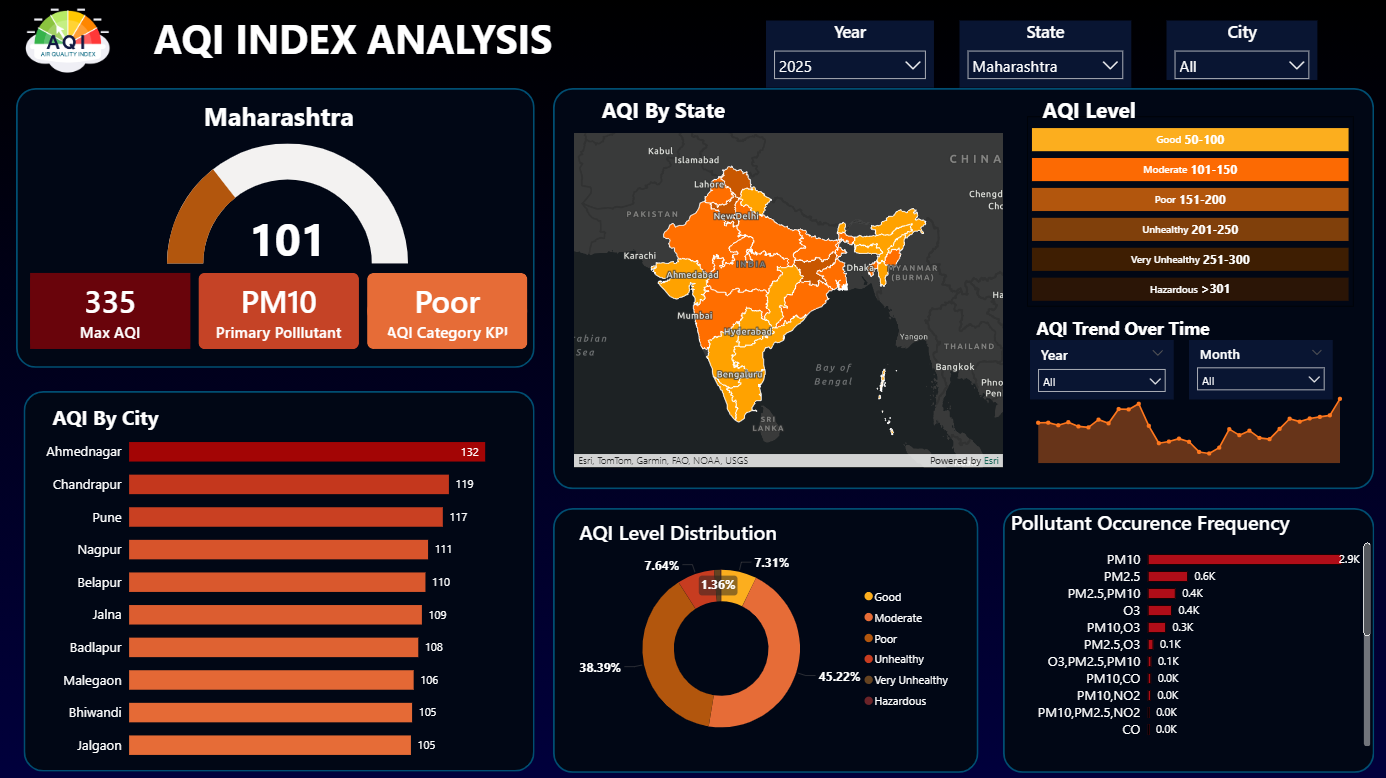

This screenshot's page, from the dashboard's own definition file:
{"tool":"powerbi","page":{"name":"Page 1","canvas":[1700,1000],"ordinal":0},"visuals":[{"type":"textbox","box":[122,29.4,623.5,88.1],"z":0},{"type":"slicer","title":"Year","fields":{"Values":["Calender Table.Year"]},"box":[933,45.2,203.3,81.3],"z":1000},{"type":"slicer","title":"State","fields":{"Values":["day_wise_aqi_data.state"]},"box":[1167.9,45.2,207.8,81.3],"z":2000},{"type":"slicer","title":"City","fields":{"Values":["day_wise_aqi_data.area"]},"box":[1418.7,45.2,183,72.3],"z":3000},{"type":"shape","box":[24.8,126.5,628,338.9],"z":4000},{"type":"gauge","fields":{"Y":["day_wise_aqi_data.Avg AQI"]},"box":[45.2,189.8,616.7,155.9],"z":5000},{"type":"cardVisual","fields":{"Data":["Max(day_wise_aqi_data.aqi_value)","day_wise_aqi_data.Primary Polllutant","day_wise_aqi_data.AQI Category KPI"]},"box":[33.9,345.6,619,106.2],"z":6000},{"type":"shape","box":[675.5,126.5,994,485.7],"z":7000},{"type":"card","fields":{"Values":["day_wise_aqi_data.KPI Title"]},"box":[176.2,131,334.3,61],"z":8000},{"type":"card","fields":{"Values":["day_wise_aqi_data.State Map Title"]},"box":[675.5,126.5,266.6,54.2],"z":9000},{"type":"esriVisual","fields":{"Location":["day_wise_aqi_data.state"],"Color":["day_wise_aqi_data.Avg AQI"]},"box":[700.3,180.7,519.6,404.4],"z":10000},{"type":"barChart","fields":{"Category":["day_wise_aqi_data.AQI Category"],"Y":["day_wise_aqi_data.Label"]},"box":[1248.9,161.1,395.4,230.1],"z":11000},{"type":"card","fields":{"Values":["day_wise_aqi_data.AQI Level Title"]},"box":[1219.9,126.5,207.8,54.2],"z":12000},{"type":"areaChart","fields":{"Category":["Calender Table.Date.Variation.Date Hierarchy.Day"],"Y":["day_wise_aqi_data.Avg AQI"]},"box":[1247,467.6,395.3,117.5],"z":13000},{"type":"slicer","fields":{"Values":["Calender Table.Date.Variation.Date Hierarchy.Year"]},"box":[1253.8,431.5,173.9,72.3],"z":14000},{"type":"slicer","fields":{"Values":["Calender Table.Date.Variation.Date Hierarchy.Month"]},"box":[1445.8,431.5,173.9,72.3],"z":15000},{"type":"card","fields":{"Values":["day_wise_aqi_data.aqi month and year"]},"box":[1190.5,399.9,347.9,38.4],"z":16000},{"type":"shape","box":[33.9,494.7,619,460.9],"z":16001},{"type":"barChart","fields":{"Category":["day_wise_aqi_data.area"],"Y":["day_wise_aqi_data.Avg AQI"]},"box":[49.7,526.4,578.3,429.2],"z":16002},{"type":"card","fields":{"Values":["day_wise_aqi_data.AQI City"]},"box":[0,499.3,266.6,54.2],"z":16003},{"type":"shape","box":[675.5,634.8,515.1,320.8],"z":16004},{"type":"donutChart","fields":{"Category":["day_wise_aqi_data.AQI Category"],"Y":["day_wise_aqi_data.CounRows"]},"box":[700.3,666.4,467.6,277.9],"z":16005},{"type":"card","fields":{"Values":["day_wise_aqi_data.Donut Chart Title"]},"box":[652.9,634.8,345.6,61],"z":16006},{"type":"shape","box":[1219.9,634.8,449.6,320.8],"z":16007},{"type":"barChart","fields":{"Category":["day_wise_aqi_data.prominent_pollutants"],"Y":["day_wise_aqi_data.CounRows"]},"box":[1219.9,666.4,449.6,257.5],"z":16008},{"type":"card","fields":{"Values":["day_wise_aqi_data.Pollutant Title"]},"box":[1195.1,623.5,406.6,61],"z":16009},{"type":"image","box":[0,29.4,176.2,81.3],"z":16010}]}

Visuals, with their boxes on the page's 1700x1000 design canvas (x1, y1, x2, y2). These are canvas units, not pixel positions in the 1386x778 screenshot, which may show the page scaled, cropped or inside an application window:
textbox: region(122, 29, 746, 118)
"Year" slicer: region(933, 45, 1136, 126)
"State" slicer: region(1168, 45, 1376, 126)
"City" slicer: region(1419, 45, 1602, 118)
shape: region(25, 126, 653, 465)
gauge - day_wise_aqi_data.Avg AQI: region(45, 190, 662, 346)
cardVisual - Max(day_wise_aqi_data.aqi_value) x day_wise_aqi_data.Primary Polllutant: region(34, 346, 653, 452)
shape: region(676, 126, 1670, 612)
card - day_wise_aqi_data.KPI Title: region(176, 131, 510, 192)
card - day_wise_aqi_data.State Map Title: region(676, 126, 942, 181)
esriVisual - day_wise_aqi_data.state x day_wise_aqi_data.Avg AQI: region(700, 181, 1220, 585)
barChart - day_wise_aqi_data.AQI Category x day_wise_aqi_data.Label: region(1249, 161, 1644, 391)
card - day_wise_aqi_data.AQI Level Title: region(1220, 126, 1428, 181)
areaChart - Calender Table.Date.Variation.Date Hierarchy.Day x day_wise_aqi_data.Avg AQI: region(1247, 468, 1642, 585)
slicer - Calender Table.Date.Variation.Date Hierarchy.Year: region(1254, 432, 1428, 504)
slicer - Calender Table.Date.Variation.Date Hierarchy.Month: region(1446, 432, 1620, 504)
card - day_wise_aqi_data.aqi month and year: region(1190, 400, 1538, 438)
shape: region(34, 495, 653, 956)
barChart - day_wise_aqi_data.area x day_wise_aqi_data.Avg AQI: region(50, 526, 628, 956)
card - day_wise_aqi_data.AQI City: region(0, 499, 267, 554)
shape: region(676, 635, 1191, 956)
donutChart - day_wise_aqi_data.AQI Category x day_wise_aqi_data.CounRows: region(700, 666, 1168, 944)
card - day_wise_aqi_data.Donut Chart Title: region(653, 635, 998, 696)
shape: region(1220, 635, 1670, 956)
barChart - day_wise_aqi_data.prominent_pollutants x day_wise_aqi_data.CounRows: region(1220, 666, 1670, 924)
card - day_wise_aqi_data.Pollutant Title: region(1195, 624, 1602, 684)
image: region(0, 29, 176, 111)
